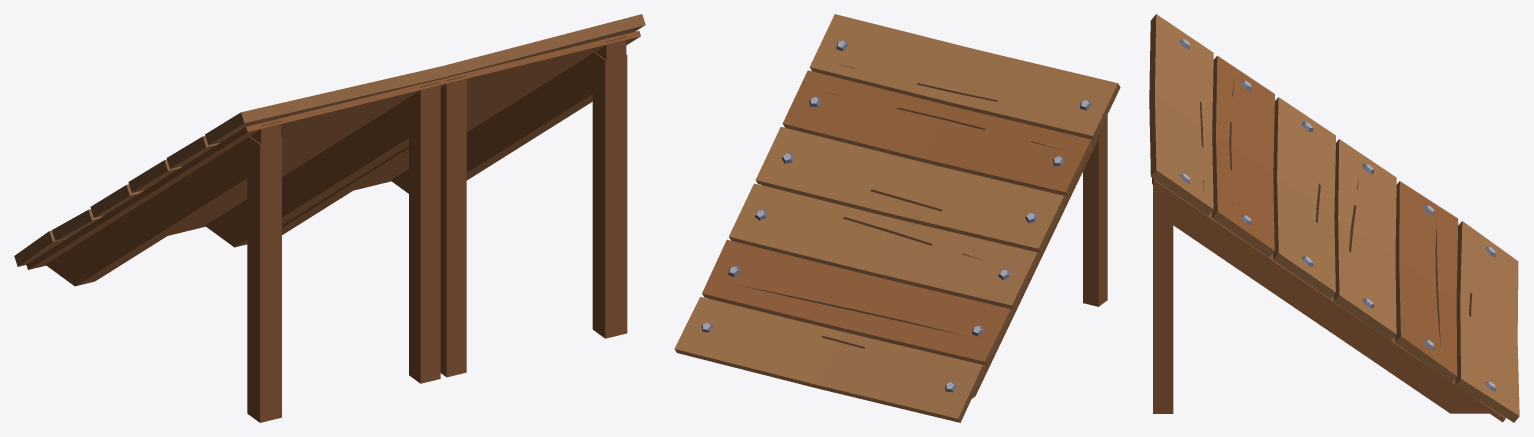
Rendered from ramp_plank_tiles.glb.
3 views of the same model, side by side, from view 1: azimuth 30°, elevation 25°; view 2: azimuth 150°, elevation 25°; view 3: azimuth 270°, elevation 25° (orthographic). The views are drawn at different scales.
Parts seen in each view (by area): view 1: Right, Left; view 2: Right, Left; view 3: Left, Right.
Part boxes in pixels (<box>): Right: <box>14,66,445,422</box>; Left: <box>282,14,645,377</box>; Right: <box>817,49,1120,422</box>; Left: <box>674,14,976,388</box>; Left: <box>1149,94,1519,422</box>; Right: <box>1149,14,1518,339</box>.
Bounding box in the file's own units: 4 × 3.04 × 4.
